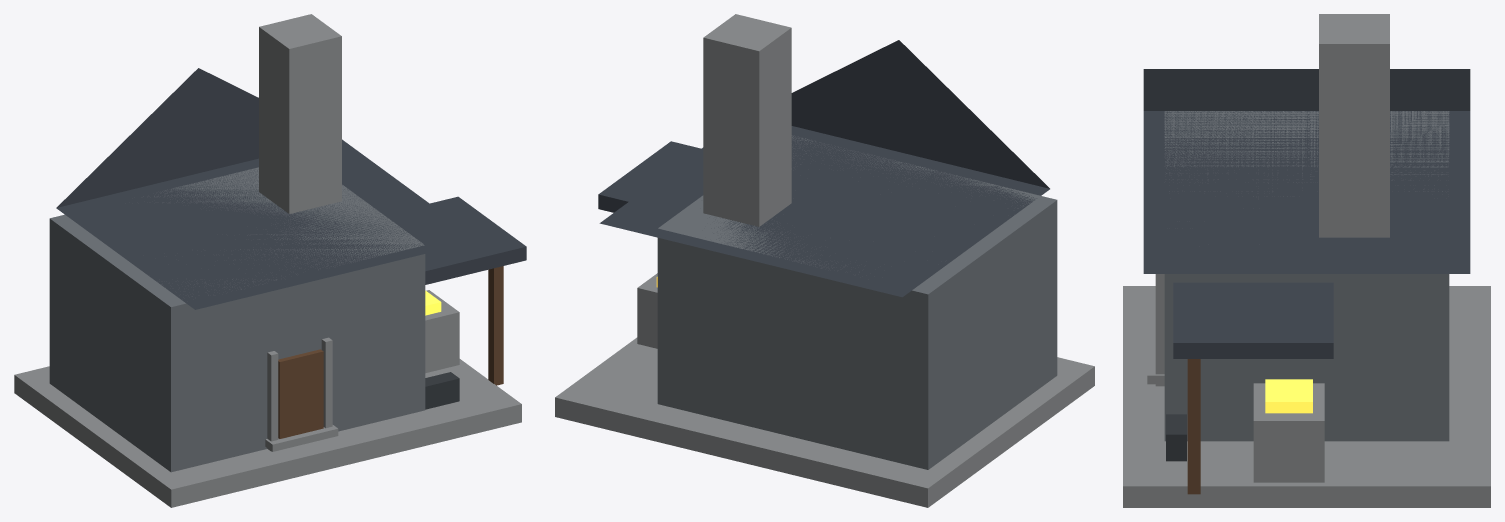
The model's file is blacksmith.glb.
3 renders of one model, left to right at view 1: azimuth 30°, elevation 25°; view 2: azimuth 150°, elevation 25°; view 3: azimuth 270°, elevation 25°, orthographic. The views are drawn at different scales.
Parts seen in each view (by area): view 1: ForgeHouse, ForgeRoof, Foundation, Chimney, ForgeCanopy, Door, Forge, CanopyPost4.1, Anvil, DoorFrameL, DoorFrameR, Threshold; view 2: ForgeHouse, ForgeRoof, Foundation, Chimney, ForgeCanopy, Forge; view 3: ForgeRoof, ForgeHouse, Foundation, Chimney, ForgeCanopy, Forge, CanopyPost4.1, Fire, DoorFrameR, Anvil, Threshold.
Boxes of the visible parts, x1=… form: ForgeHouse: x1=49, y1=167, x2=425, y2=472; ForgeRoof: x1=56, y1=68, x2=479, y2=309; Foundation: x1=14, y1=359, x2=521, y2=507; Chimney: x1=259, y1=14, x2=341, y2=213; ForgeCanopy: x1=425, y1=196, x2=526, y2=284; Door: x1=278, y1=349, x2=323, y2=438; Forge: x1=425, y1=290, x2=459, y2=373; CanopyPost4.1: x1=488, y1=266, x2=503, y2=385; Anvil: x1=425, y1=372, x2=459, y2=409; DoorFrameL: x1=267, y1=351, x2=278, y2=451; DoorFrameR: x1=321, y1=337, x2=332, y2=428; Threshold: x1=265, y1=425, x2=338, y2=451; ForgeHouse: x1=657, y1=135, x2=1057, y2=469; ForgeRoof: x1=599, y1=40, x2=1049, y2=297; Foundation: x1=555, y1=337, x2=1094, y2=507; Chimney: x1=703, y1=14, x2=791, y2=226; ForgeCanopy: x1=598, y1=141, x2=700, y2=212; Forge: x1=637, y1=273, x2=657, y2=348; ForgeRoof: x1=1143, y1=69, x2=1470, y2=273; ForgeHouse: x1=1164, y1=111, x2=1449, y2=441; Foundation: x1=1123, y1=286, x2=1490, y2=507; Chimney: x1=1319, y1=14, x2=1389, y2=237; ForgeCanopy: x1=1173, y1=282, x2=1333, y2=358; Forge: x1=1253, y1=383, x2=1324, y2=482; CanopyPost4.1: x1=1187, y1=359, x2=1200, y2=494; Fire: x1=1265, y1=379, x2=1312, y2=413; DoorFrameR: x1=1155, y1=274, x2=1164, y2=386; Anvil: x1=1166, y1=414, x2=1186, y2=461; Threshold: x1=1147, y1=338, x2=1164, y2=384.
Bounding box in the file's own units: 8.6 × 7.6 × 6.2.
